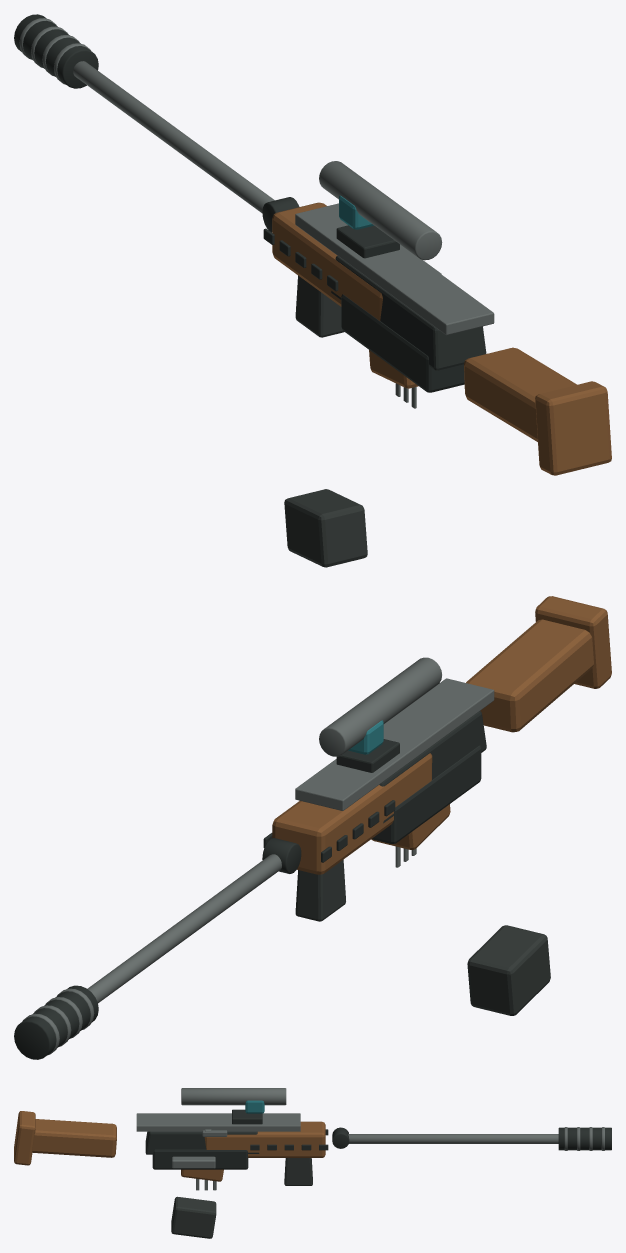
3 views of the same model, one above another, from view 1: azimuth 30°, elevation 25°; view 2: azimuth 150°, elevation 25°; view 3: azimuth 270°, elevation 25° (orthographic). The views are drawn at different scales.
Visible parts, largest first — view 1: TopRail, StockButt, StockBody, SpareMagazineBody, Handguard, Barrel, ScopeTube, LowerReceiver, UpperReceiver, SuppressorBody, ForegripBody, OpticRiser; view 2: StockBody, TopRail, Handguard, SpareMagazineBody, ScopeTube, Barrel, LowerReceiver, SuppressorBody, StockButt, ForegripBody, UpperReceiver, OpticRiser (+2 smaller); view 3: StockBody, TopRail, Handguard, Barrel, ScopeTube, SpareMagazineBody, LowerReceiver, UpperReceiver, SuppressorBody, StockButt, ForegripBody, BoltHandle (+4 smaller).
Boxes of the visible parts, x1,y1,x2,y2 form: TopRail: (295,203,494,334); StockButt: (535,381,611,475); StockBody: (464,347,576,441); SpareMagazineBody: (284,489,367,567); Handguard: (272,202,382,320); Barrel: (73,61,274,212); ScopeTube: (319,161,442,260); LowerReceiver: (341,294,464,392); UpperReceiver: (331,256,486,370); SuppressorBody: (14,14,98,88); ForegripBody: (295,275,344,337); OpticRiser: (336,225,399,258); StockBody: (466,619,593,732); TopRail: (295,678,494,810); Handguard: (272,753,432,874); SpareMagazineBody: (467,925,550,1015); ScopeTube: (319,657,441,756); Barrel: (87,854,281,1003); LowerReceiver: (371,745,481,843); SuppressorBody: (14,985,98,1059); StockButt: (535,596,611,688); ForegripBody: (295,859,345,921); UpperReceiver: (379,711,486,823); OpticRiser: (336,739,399,772); StockBody: (32,1119,116,1157); TopRail: (136,1113,300,1131); Handguard: (204,1121,325,1157); Barrel: (348,1134,558,1143); ScopeTube: (181,1088,286,1105); SpareMagazineBody: (171,1196,216,1238); LowerReceiver: (152,1149,248,1169); UpperReceiver: (145,1131,259,1154); SuppressorBody: (558,1127,611,1150); StockButt: (14,1111,35,1165); ForegripBody: (284,1158,312,1185); BoltHandle: (172,1156,215,1168).
Size of the model in its own units: 0.515 by 0.9776 by 3.13.
